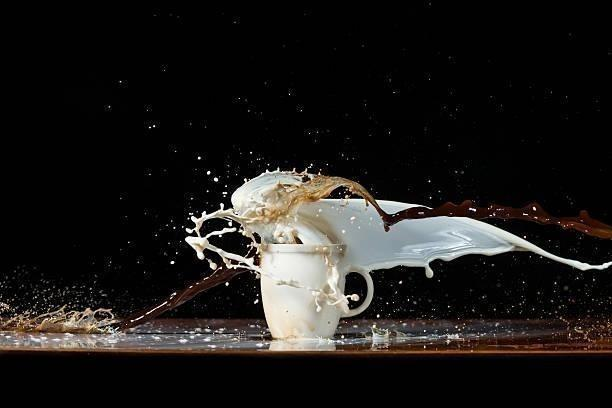cup-handle: (255, 243, 375, 342)
